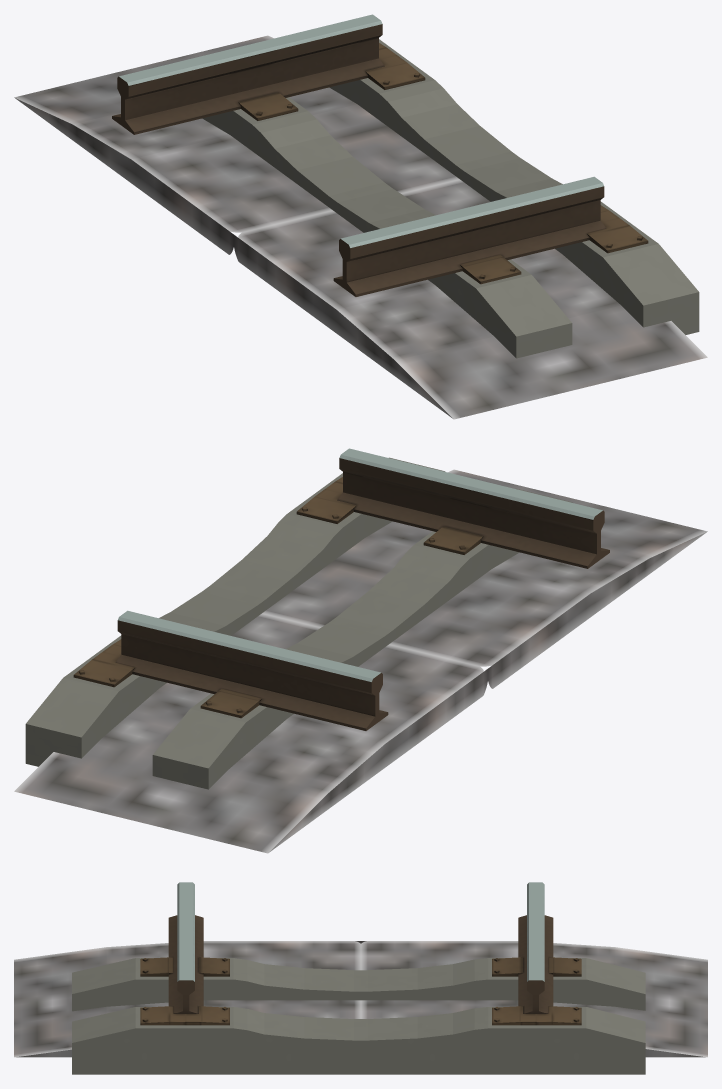
The model's file is spsf_tracks_concrete.obj.
3 views of the same model, one above another, from view 1: azimuth 30°, elevation 25°; view 2: azimuth 150°, elevation 25°; view 3: azimuth 270°, elevation 25° (orthographic). The views are drawn at different scales.
Parts seen in each view (by area): view 1: RAIL_BASE_Cube.001, RAIL_BASE.006_Cube_Cube.004, RAIL_LEFT_Cube.002, RAIL_RIGHT_Cube.010, RAIL_BASE.005_Cube.003; view 2: RAIL_BASE_Cube.001, RAIL_BASE.006_Cube_Cube.004, RAIL_RIGHT_Cube.010, RAIL_LEFT_Cube.002, RAIL_BASE.005_Cube.003; view 3: RAIL_BASE.006_Cube_Cube.004, RAIL_BASE_Cube.001, RAIL_BASE.005_Cube.003, RAIL_LEFT_Cube.002, RAIL_RIGHT_Cube.010.
Boxes of the visible parts, x1,y1,x2,y2 form: RAIL_BASE_Cube.001: [14, 35, 707, 419]; RAIL_BASE.006_Cube_Cube.004: [202, 39, 699, 358]; RAIL_LEFT_Cube.002: [333, 176, 606, 296]; RAIL_RIGHT_Cube.010: [112, 14, 384, 134]; RAIL_BASE.005_Cube.003: [238, 43, 648, 284]; RAIL_BASE_Cube.001: [14, 469, 707, 853]; RAIL_BASE.006_Cube_Cube.004: [25, 457, 572, 789]; RAIL_RIGHT_Cube.010: [115, 610, 388, 730]; RAIL_LEFT_Cube.002: [337, 448, 609, 568]; RAIL_BASE.005_Cube.003: [73, 477, 483, 718]; RAIL_BASE.006_Cube_Cube.004: [72, 958, 645, 1074]; RAIL_BASE_Cube.001: [14, 941, 707, 1057]; RAIL_BASE.005_Cube.003: [140, 957, 581, 1025]; RAIL_LEFT_Cube.002: [168, 882, 203, 1013]; RAIL_RIGHT_Cube.010: [518, 882, 553, 1013].
Size of the model in its own units: 1.11 by 0.3983 by 3.
2 materials, 2 textured.
